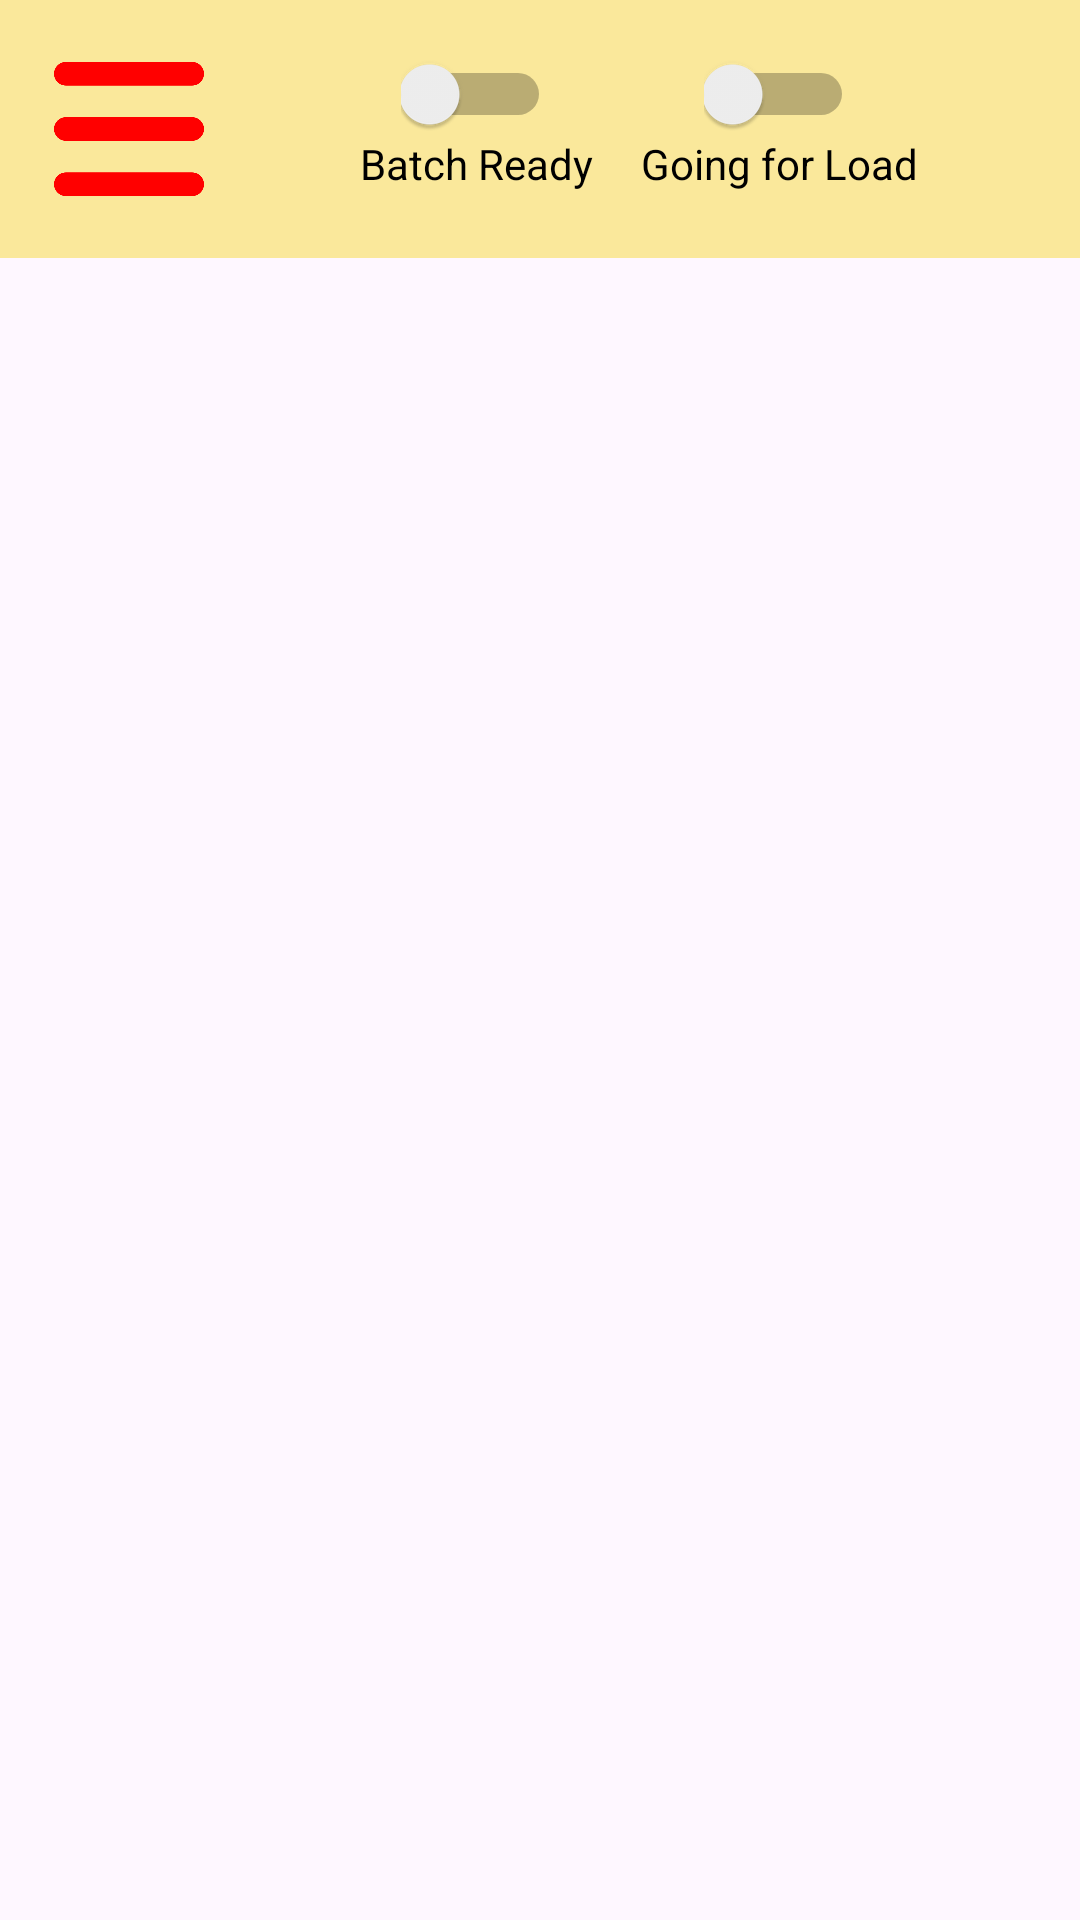

Named icons in this screenshot (1080px×1920px) and their bounding boxes, (x1, y1, x2, y2):
side menu: (54, 62, 204, 196)
